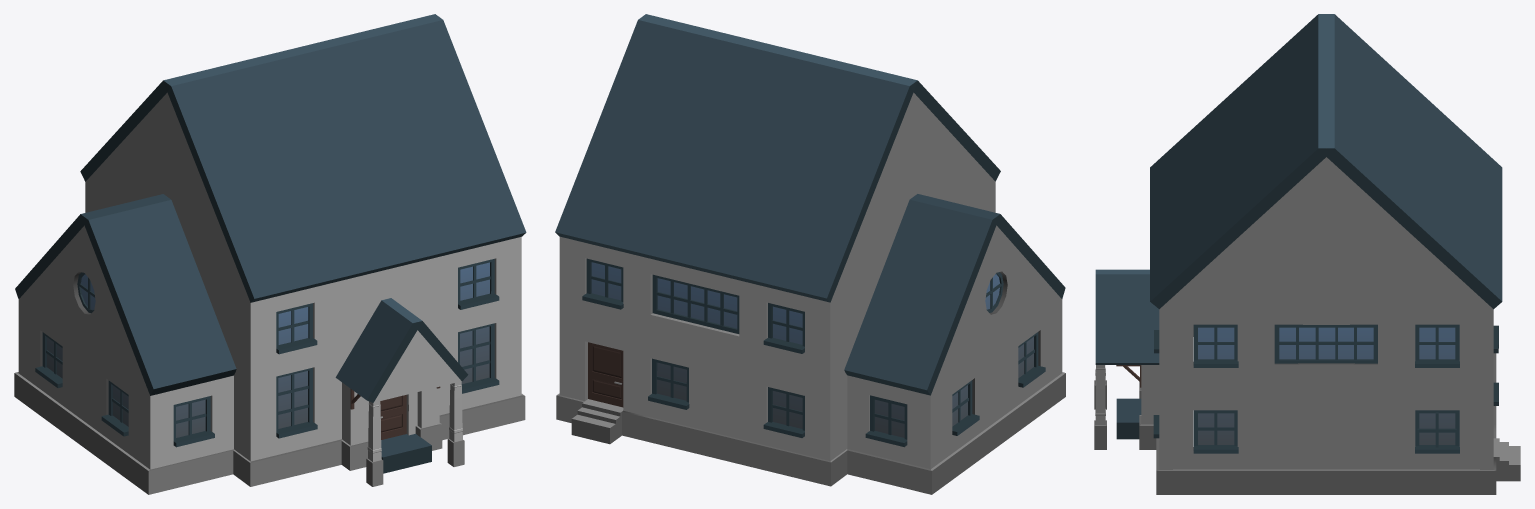
The model's file is buildings-residential-largefamilyhome_v2.glb.
3 views of the same model, side by side, from view 1: azimuth 30°, elevation 25°; view 2: azimuth 150°, elevation 25°; view 3: azimuth 270°, elevation 25° (orthographic).
Visible parts, largest first — view 1: LargeFamilyHome_v2_base, LargeFamilyHome_v2_windowRefl; view 2: LargeFamilyHome_v2_base, LargeFamilyHome_v2_windowRefl; view 3: LargeFamilyHome_v2_base, LargeFamilyHome_v2_windowRefl.
Part boxes in pixels (bbox=[...]): LargeFamilyHome_v2_base: bbox=[14, 14, 526, 494]; LargeFamilyHome_v2_windowRefl: bbox=[47, 262, 489, 437]; LargeFamilyHome_v2_base: bbox=[555, 14, 1065, 494]; LargeFamilyHome_v2_windowRefl: bbox=[591, 262, 1033, 437]; LargeFamilyHome_v2_base: bbox=[1094, 14, 1520, 494]; LargeFamilyHome_v2_windowRefl: bbox=[1198, 327, 1455, 444].
Size of the model in its own units: 14.61 by 13.1 by 14.61.
